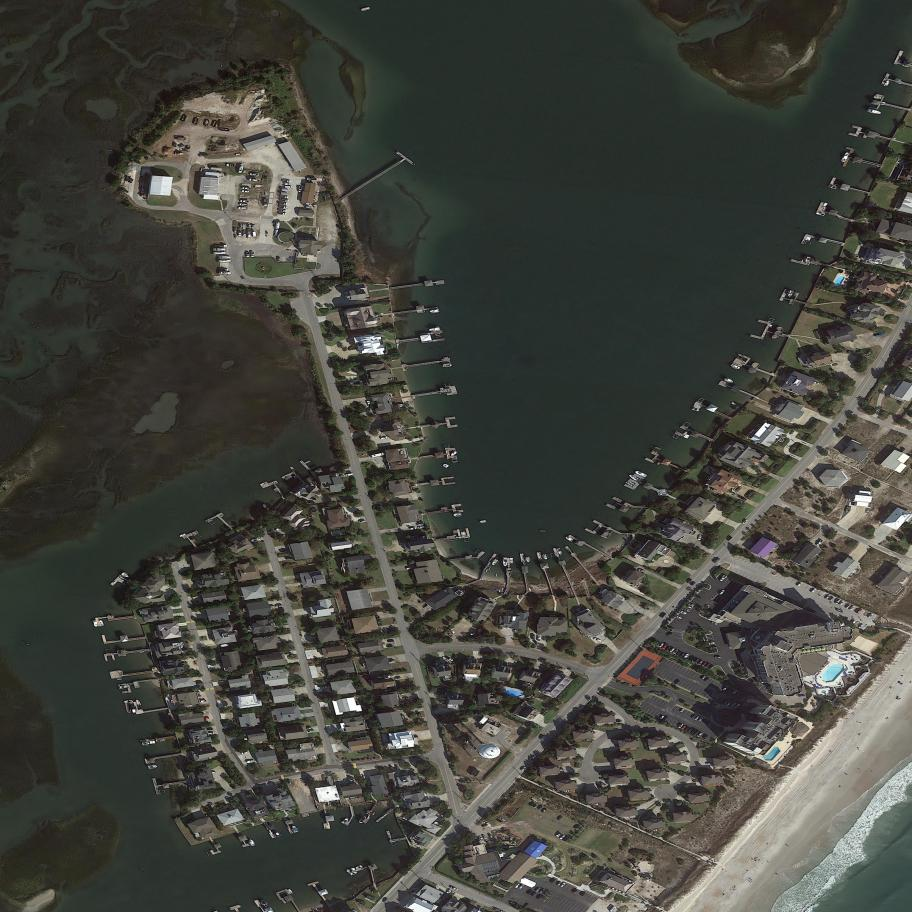ship: (867, 107, 883, 116), (840, 151, 851, 164), (633, 470, 648, 479), (260, 898, 269, 909), (628, 474, 640, 482), (730, 362, 741, 370), (359, 6, 371, 13), (450, 449, 459, 458), (429, 326, 442, 332), (724, 377, 735, 384), (120, 571, 131, 578), (883, 79, 891, 88), (491, 558, 499, 567), (565, 535, 574, 543), (359, 815, 367, 824), (97, 619, 105, 628), (292, 824, 299, 834), (342, 817, 350, 825), (787, 289, 794, 298), (805, 255, 812, 264), (135, 698, 142, 707), (260, 480, 270, 486), (690, 406, 700, 412), (250, 538, 262, 543), (284, 475, 292, 482), (248, 839, 255, 847), (503, 557, 508, 567), (557, 548, 563, 556), (344, 868, 356, 872), (216, 260, 231, 263), (147, 765, 158, 769), (542, 553, 548, 560), (288, 888, 294, 895), (212, 252, 226, 255), (217, 256, 231, 259), (429, 309, 439, 313), (874, 95, 882, 100), (246, 760, 256, 764), (179, 532, 187, 537), (219, 272, 232, 275), (212, 248, 225, 251), (214, 245, 227, 248), (454, 513, 463, 517), (355, 865, 364, 869), (120, 685, 129, 689), (479, 520, 487, 524), (142, 742, 151, 745), (525, 557, 530, 562), (510, 558, 514, 563), (219, 269, 228, 271), (539, 530, 547, 532)
small-vehicle: (816, 538, 823, 548), (712, 557, 721, 564), (689, 728, 698, 735), (238, 164, 244, 174), (795, 581, 803, 588), (517, 884, 525, 891), (659, 611, 666, 619), (664, 645, 672, 652), (678, 652, 686, 659), (693, 657, 700, 665), (710, 620, 718, 627), (499, 815, 507, 822), (693, 714, 701, 721), (637, 568, 646, 574), (579, 890, 586, 897), (810, 587, 817, 594), (514, 883, 521, 890), (549, 877, 556, 884), (559, 834, 566, 841), (850, 619, 857, 626), (573, 823, 580, 830), (556, 831, 563, 838), (668, 647, 675, 654), (675, 649, 682, 656), (687, 654, 694, 661), (707, 664, 714, 671), (867, 612, 874, 619), (834, 598, 841, 605), (849, 604, 856, 611), (857, 623, 864, 630), (718, 589, 725, 596), (704, 662, 711, 669), (687, 727, 694, 734), (693, 729, 700, 736), (702, 733, 709, 740), (677, 722, 684, 729), (739, 496, 747, 502), (445, 656, 453, 662), (451, 886, 459, 892), (696, 732, 704, 738), (789, 429, 795, 436), (742, 518, 748, 525), (450, 628, 456, 635), (389, 765, 395, 772), (535, 886, 541, 893), (446, 888, 453, 894), (698, 659, 704, 666), (662, 643, 668, 650), (672, 648, 678, 655), (683, 653, 689, 660), (701, 660, 707, 667), (690, 656, 696, 663), (839, 600, 845, 607), (846, 603, 852, 610), (730, 601, 737, 607), (704, 676, 710, 683), (521, 765, 527, 772), (540, 734, 546, 741), (681, 724, 687, 731), (533, 803, 539, 810), (684, 725, 690, 732), (732, 689, 738, 696), (734, 703, 741, 709), (691, 713, 698, 719), (277, 212, 287, 216), (252, 230, 257, 238), (279, 198, 289, 202), (813, 381, 821, 386), (249, 172, 259, 176), (467, 632, 475, 637), (732, 600, 740, 605), (728, 604, 736, 609), (481, 823, 489, 828), (278, 209, 287, 213), (249, 178, 258, 182), (241, 190, 250, 194), (283, 185, 292, 189), (280, 549, 289, 553), (690, 580, 696, 586), (447, 632, 453, 638), (560, 882, 566, 888), (539, 888, 545, 894), (556, 881, 562, 887), (572, 888, 578, 894), (523, 903, 529, 909), (828, 595, 834, 601), (722, 685, 728, 691), (731, 702, 737, 708), (722, 700, 728, 706), (698, 717, 704, 723), (366, 400, 371, 407), (250, 250, 255, 257), (242, 230, 247, 237), (395, 765, 400, 772), (482, 834, 487, 841), (676, 615, 683, 620), (688, 602, 695, 607), (681, 610, 688, 615), (496, 818, 503, 823), (264, 199, 268, 207), (409, 527, 417, 531), (386, 644, 394, 648), (834, 608, 842, 612), (320, 686, 328, 690), (594, 638, 602, 642), (278, 206, 288, 209), (278, 202, 288, 205), (325, 777, 330, 783), (479, 836, 484, 842), (531, 891, 536, 897), (382, 897, 387, 903), (537, 635, 542, 641), (488, 833, 493, 839), (659, 642, 664, 648), (684, 608, 690, 613), (531, 755, 536, 761), (538, 804, 543, 810), (542, 807, 547, 813), (725, 702, 730, 708), (701, 675, 706, 681), (675, 679, 680, 685), (680, 708, 685, 714), (660, 714, 665, 720), (285, 557, 292, 561), (202, 717, 209, 721), (667, 633, 674, 637), (282, 180, 291, 183), (242, 187, 251, 190), (240, 200, 249, 203), (239, 203, 248, 206), (280, 196, 289, 199), (306, 730, 315, 733), (241, 752, 250, 755), (277, 256, 281, 262), (380, 437, 388, 440), (283, 183, 291, 186), (237, 231, 241, 237), (417, 523, 425, 526), (698, 535, 702, 541), (359, 520, 367, 523), (538, 893, 542, 899), (397, 692, 405, 695), (394, 677, 402, 680), (558, 815, 562, 821), (418, 526, 425, 529), (406, 567, 413, 570), (192, 596, 199, 599), (182, 649, 189, 652), (208, 732, 215, 735), (387, 639, 394, 642), (246, 252, 250, 257), (237, 207, 247, 209), (247, 234, 251, 239), (403, 697, 409, 700), (715, 656, 721, 659), (276, 605, 284, 607), (531, 634, 534, 639), (558, 769, 565, 771)
